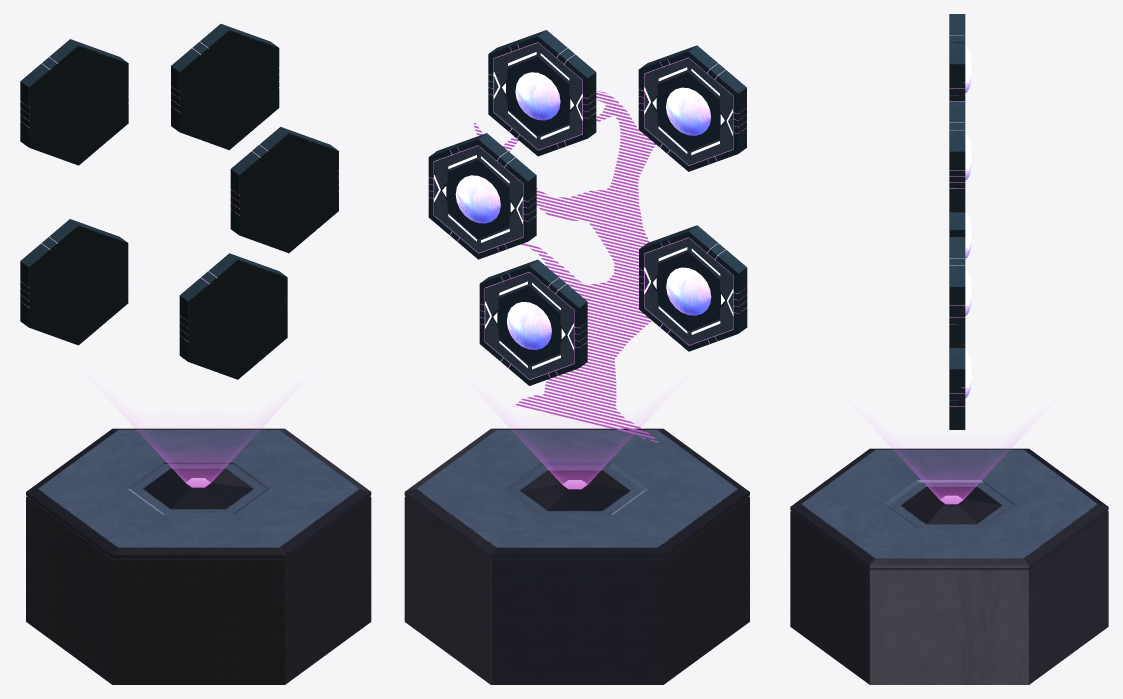
The model's file is entity58386.gltf.
3 views of the same model, side by side, from view 1: azimuth 30°, elevation 25°; view 2: azimuth 150°, elevation 25°; view 3: azimuth 270°, elevation 25° (orthographic). The views are drawn at different scales.
Visible parts, largest first — view 1: node_ElevatorTeleporter_Art; view 2: node_ElevatorTeleporter_Art; view 3: node_ElevatorTeleporter_Art.
Boxes of the visible parts, x1,y1,x2,y2 form: node_ElevatorTeleporter_Art: (20, 24, 371, 684); node_ElevatorTeleporter_Art: (404, 30, 749, 684); node_ElevatorTeleporter_Art: (790, 14, 1108, 684).
Bounding box in the file's own units: 4.25 × 6.84 × 3.53.
Materials: 3 (3 with a texture image).
